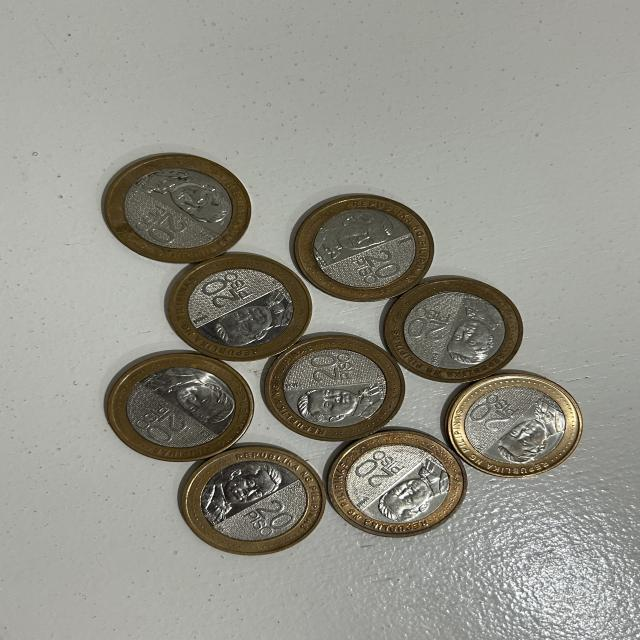20_New_Front: (451, 388, 551, 446), (126, 394, 189, 446), (242, 495, 306, 546), (186, 271, 270, 309), (300, 348, 363, 398), (349, 445, 415, 492), (347, 244, 409, 290), (132, 200, 190, 245)
